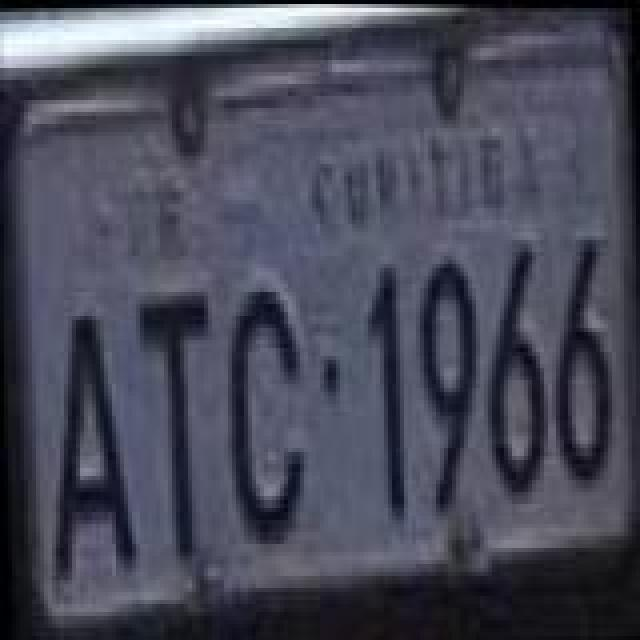1: (360, 260, 412, 532)
6: (478, 238, 550, 510), (546, 218, 618, 482)
9: (414, 254, 486, 526)
A: (40, 310, 140, 590)
C: (222, 284, 310, 556)
T: (136, 284, 220, 568)
